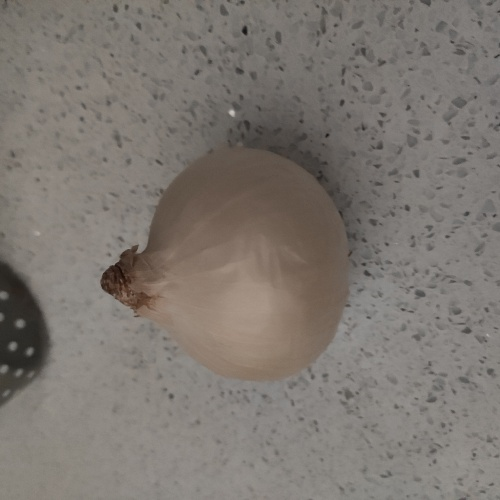cipolla: (94, 140, 354, 387)
